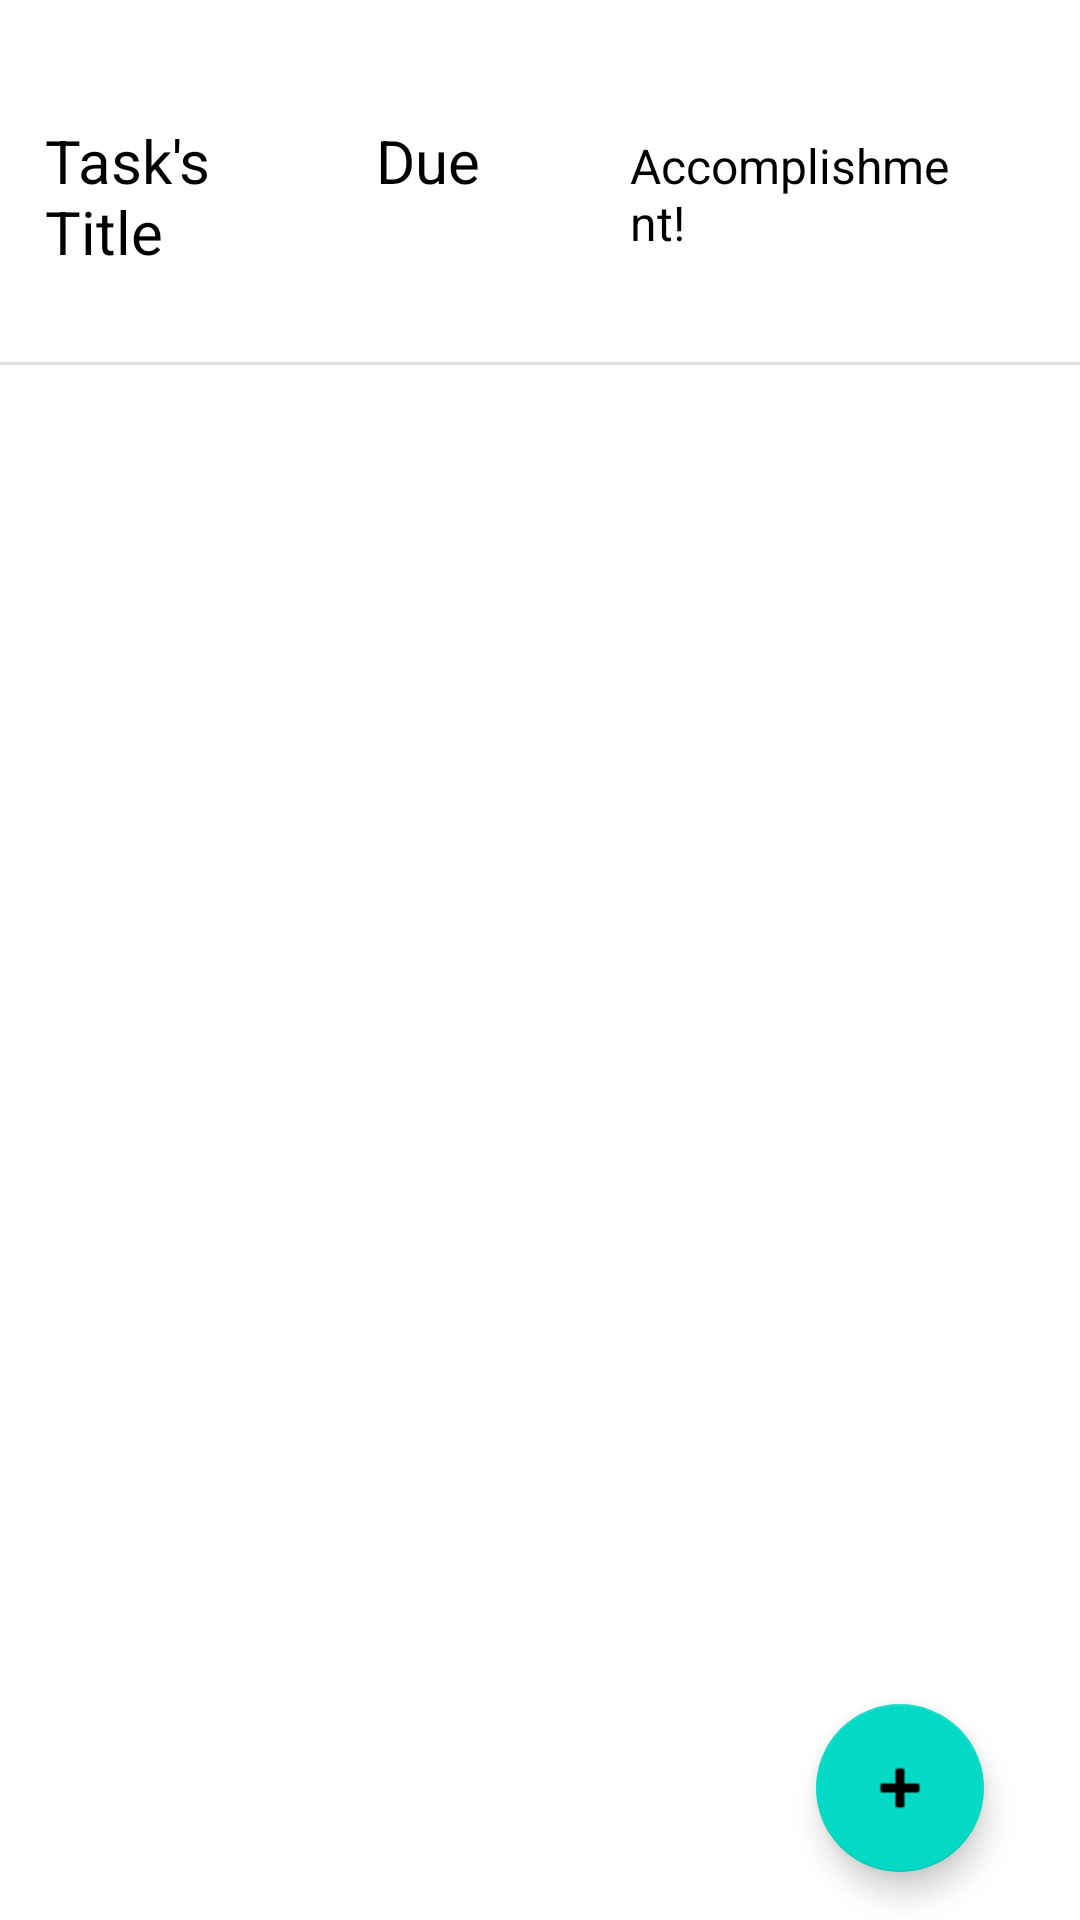

Where to tap for icons on this 1080 x 1920 app screen, as (x=x, y=y):
add: (x=900, y=1788)
